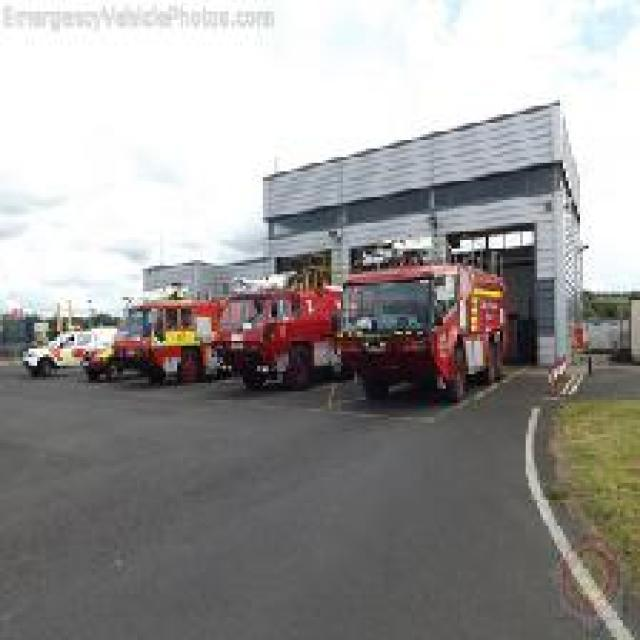emergency: (334, 256, 511, 408), (205, 287, 379, 391), (113, 295, 250, 385), (18, 322, 114, 378)
